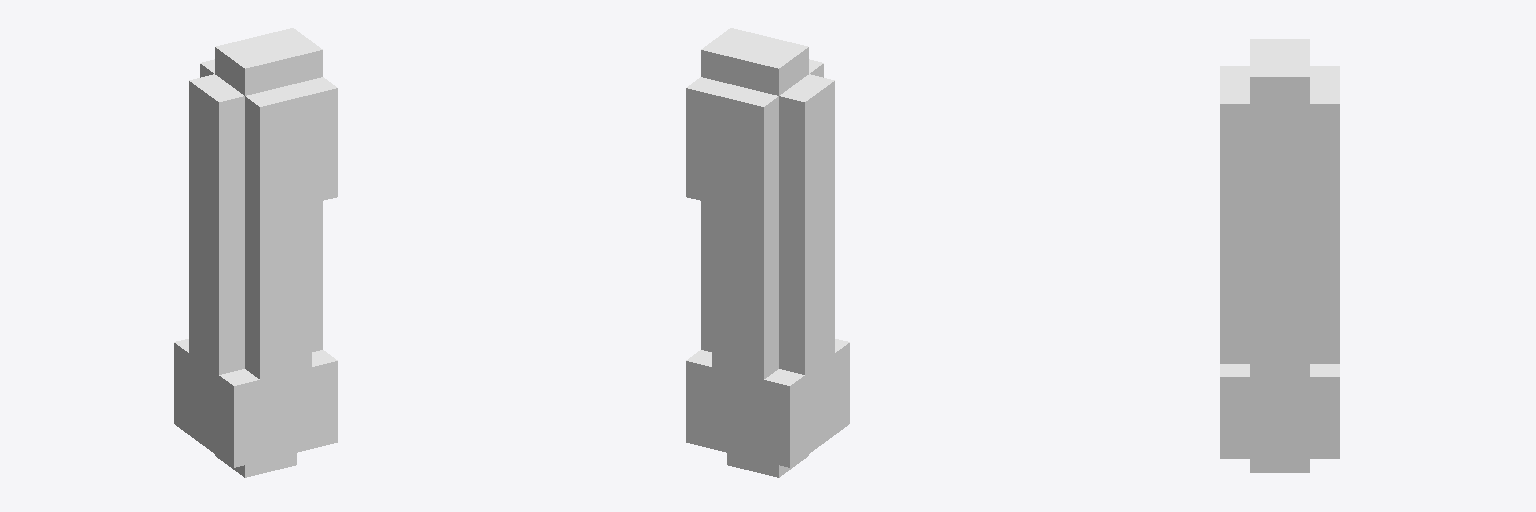
Rendered from General-1.obj.
The picture shows the model from 3 angles: view 1: azimuth 30°, elevation 25°; view 2: azimuth 150°, elevation 25°; view 3: azimuth 270°, elevation 25°; orthographic projection.
Parts seen in each view (by area): view 1: object 1; view 2: object 1; view 3: object 1.
Part boxes in pixels (left/top/right/bottom): object 1: left=174, top=28, right=337, bottom=477; object 1: left=686, top=28, right=849, bottom=477; object 1: left=1220, top=39, right=1339, bottom=472.
Bounding box in the file's own units: 0.4 × 1.5 × 0.4.